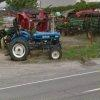Tractor: (5, 16, 65, 67)
